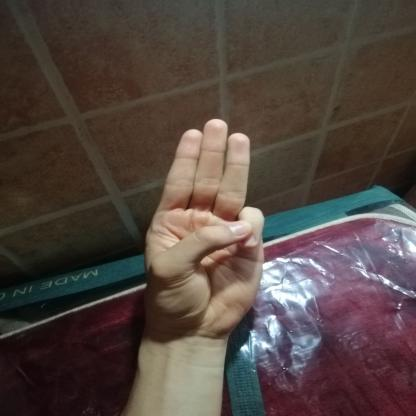THA: (127, 108, 274, 350)
